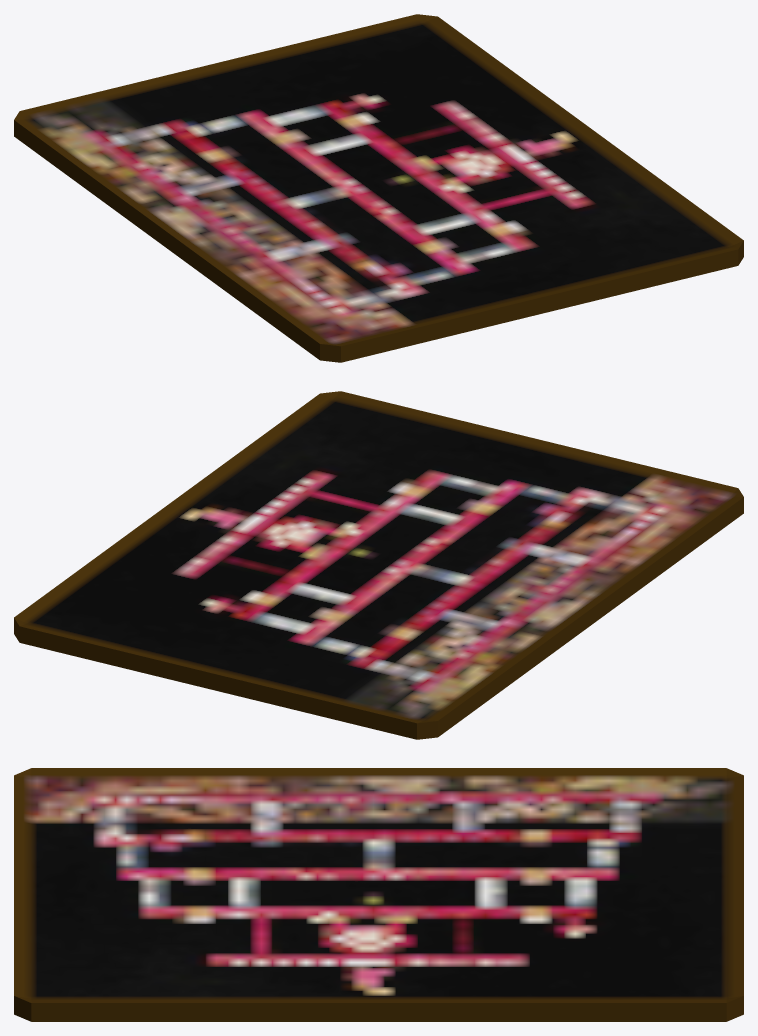
The model's file is paint_0.fbx.
3 views of the same model, one above another, from view 1: azimuth 30°, elevation 25°; view 2: azimuth 150°, elevation 25°; view 3: azimuth 270°, elevation 25° (orthographic). The views are drawn at different scales.
Parts seen in each view (by area): view 1: paint; view 2: paint; view 3: paint.
Part boxes in pixels (x1=…): paint: x1=14, y1=14, x2=743, y2=362; paint: x1=14, y1=391, x2=743, y2=739; paint: x1=14, y1=768, x2=743, y2=1021.
Size of the model in its own units: 320 by 11.89 by 420.
